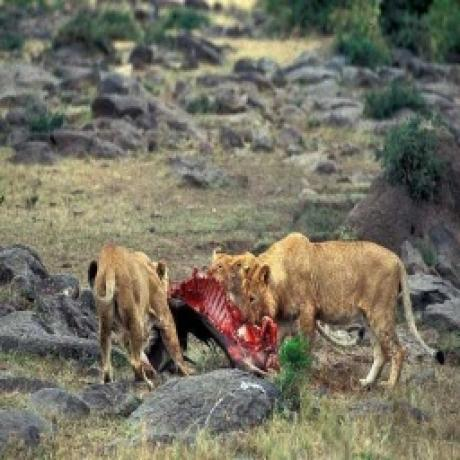Lion: (241, 228, 444, 387), (87, 244, 181, 380)
